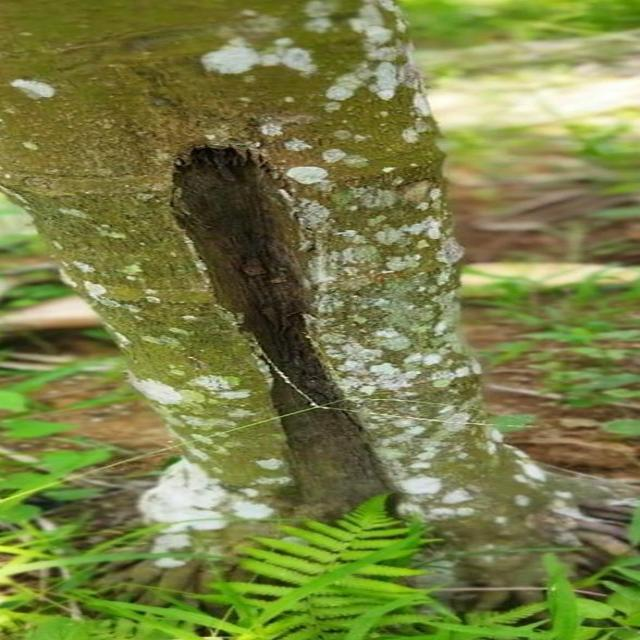Stem_Cracking: (105, 118, 566, 592)
